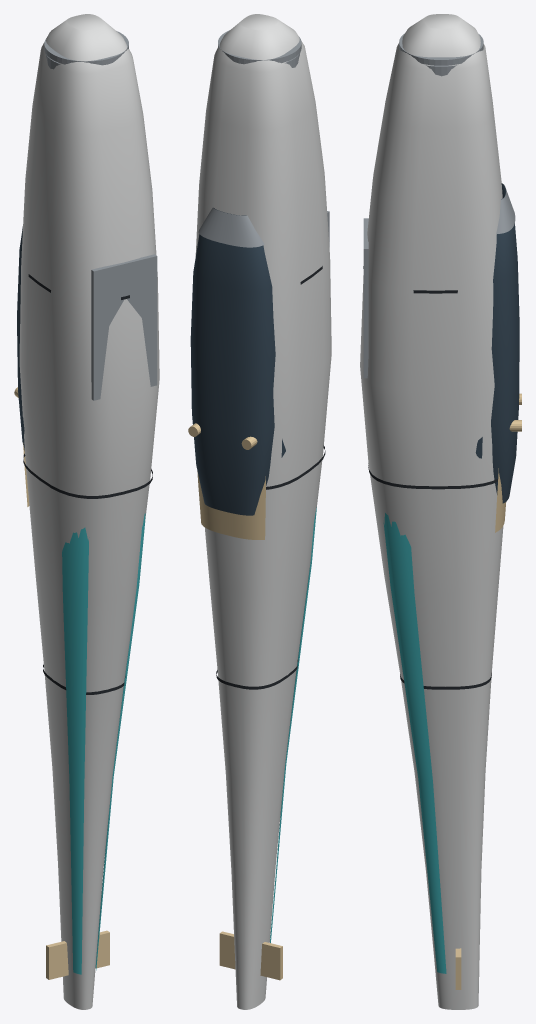
Rendered from fuselaje.glb.
3 views of the same model, side by side, from view 1: azimuth 30°, elevation 25°; view 2: azimuth 150°, elevation 25°; view 3: azimuth 270°, elevation 25° (orthographic).
Parts seen in each view (by area): view 1: Fuselaje; view 2: Fuselaje; view 3: Fuselaje.
Boxes of the visible parts, x1,y1,x2,y2 form: Fuselaje: (14,14,159,1009); Fuselaje: (188,14,331,1009); Fuselaje: (360,14,521,1009).
Size of the model in its own units: 0.0864 by 0.8 by 0.1193.
